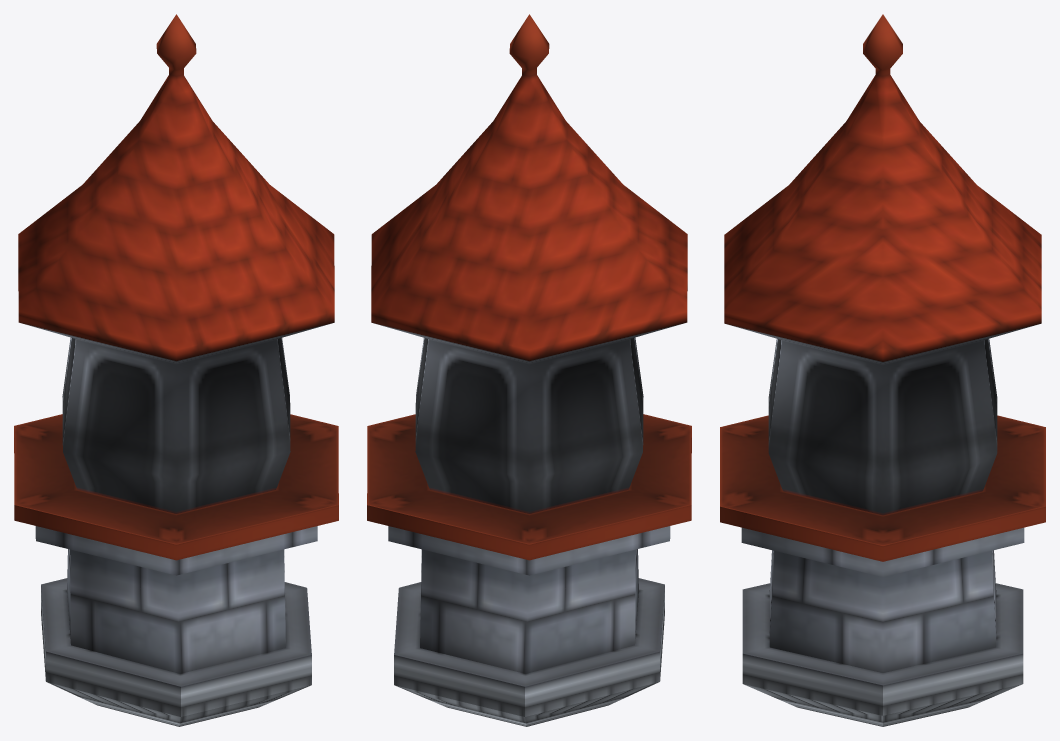
Rendered from MageTower_Lv2_SmallTower.FBX.
3 renders of one model, left to right at view 1: azimuth 30°, elevation 25°; view 2: azimuth 150°, elevation 25°; view 3: azimuth 270°, elevation 25°, orthographic.
Parts seen in each view (by area): view 1: MageTower_Lv2_SmallTower; view 2: MageTower_Lv2_SmallTower; view 3: MageTower_Lv2_SmallTower.
Boxes of the visible parts, x1,y1,x2,y2 form: MageTower_Lv2_SmallTower: [14, 14, 338, 726]; MageTower_Lv2_SmallTower: [367, 14, 691, 726]; MageTower_Lv2_SmallTower: [720, 14, 1045, 726].
Bounding box in the file's own units: 14.6 × 28.94 × 12.68.
